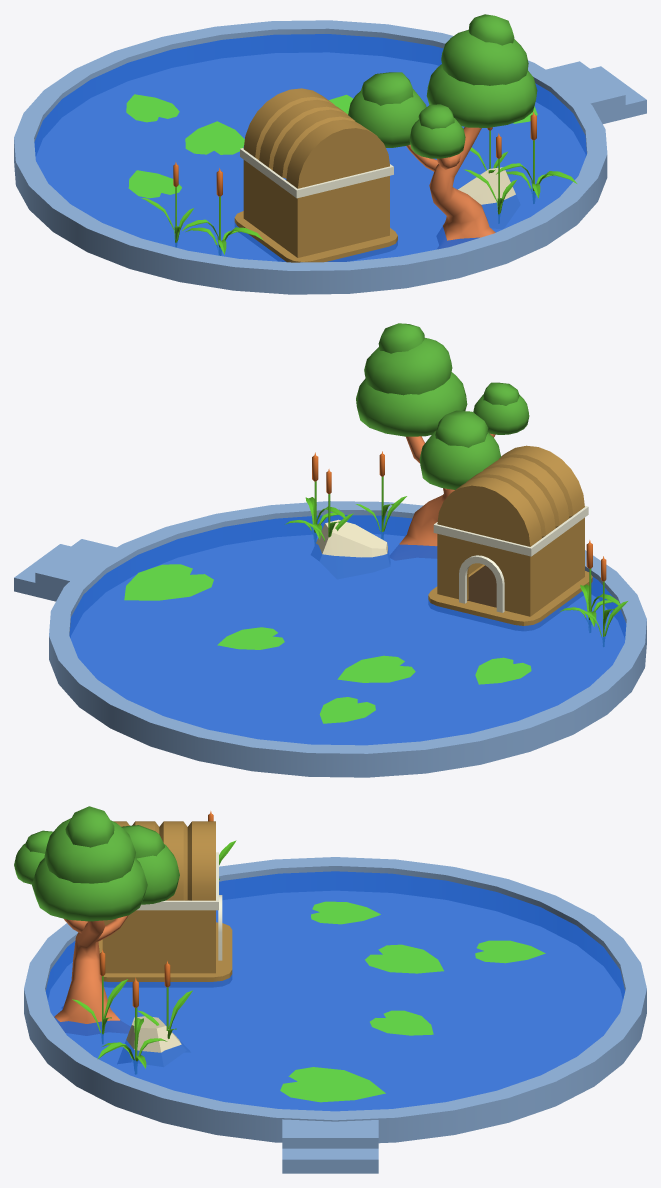
The model's file is paddock_flamingo 1.fbx.
The picture shows the model from 3 angles, top to bottom: view 1: azimuth 30°, elevation 25°; view 2: azimuth 150°, elevation 25°; view 3: azimuth 270°, elevation 25°; orthographic projection. The views are drawn at different scales.
Parts seen in each view (by area): view 1: water_paddock_flamingo, paddock_flamingo, house_flamingo, Tree.015, paddock_penguins.002, Flowers.041, rock.008, Flowers.040, Flowers.038, Grass.014, Grass.009, Grass.013 (+1 smaller); view 2: water_paddock_flamingo, paddock_flamingo, house_flamingo, Tree.015, paddock_penguins.002, Flowers.002, rock.008, Flowers.041, Flowers.039, Flowers.040, Flowers.038, Grass.014 (+1 smaller); view 3: water_paddock_flamingo, paddock_flamingo, Tree.015, house_flamingo, paddock_penguins.002, Flowers.002, Flowers.041, rock.008, Flowers.040, Flowers.038, Flowers.039, Grass.009 (+2 smaller).
Boxes of the visible parts, x1,y1,x2,y2 form: water_paddock_flamingo: (34,34,586,261); paddock_flamingo: (14,20,607,294); house_flamingo: (234,88,397,262); Tree.015: (348,14,537,247); paddock_penguins.002: (546,61,646,123); Flowers.041: (185,121,244,154); rock.008: (458,167,518,213); Flowers.040: (126,94,179,122); Flowers.038: (128,170,181,198); Grass.014: (182,168,263,254); Grass.009: (496,111,577,198); Grass.013: (464,133,516,214); water_paddock_flamingo: (69,515,626,745); paddock_flamingo: (49,501,646,777); house_flamingo: (428,445,592,630); Tree.015: (356,323,529,559); paddock_penguins.002: (14,539,116,601); Flowers.002: (124,564,213,600); rock.008: (312,519,389,578); Flowers.041: (337,655,415,682); Flowers.039: (217,627,284,649); Flowers.040: (319,697,375,723); Flowers.038: (475,657,531,684); Grass.014: (560,540,620,626); water_paddock_flamingo: (45,871,625,1111); paddock_flamingo: (24,857,646,1143); Tree.015: (14,806,179,1027); house_flamingo: (98,821,232,981); paddock_penguins.002: (282,1119,378,1173); Flowers.002: (280,1067,385,1102); Flowers.041: (365,944,443,973); rock.008: (118,1016,186,1063); Flowers.040: (475,940,545,963); Flowers.038: (311,901,380,924); Flowers.039: (370,1010,433,1035); Grass.009: (97,977,167,1068).
Size of the model in its own units: 3695 by 1420 by 3401.
